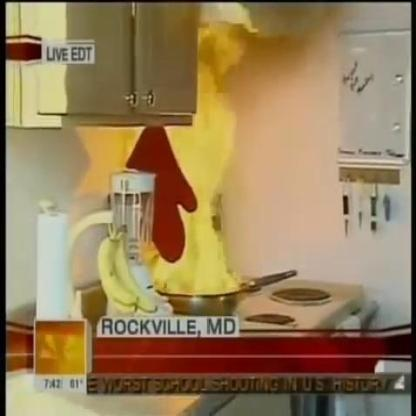fire: (150, 4, 247, 296)
